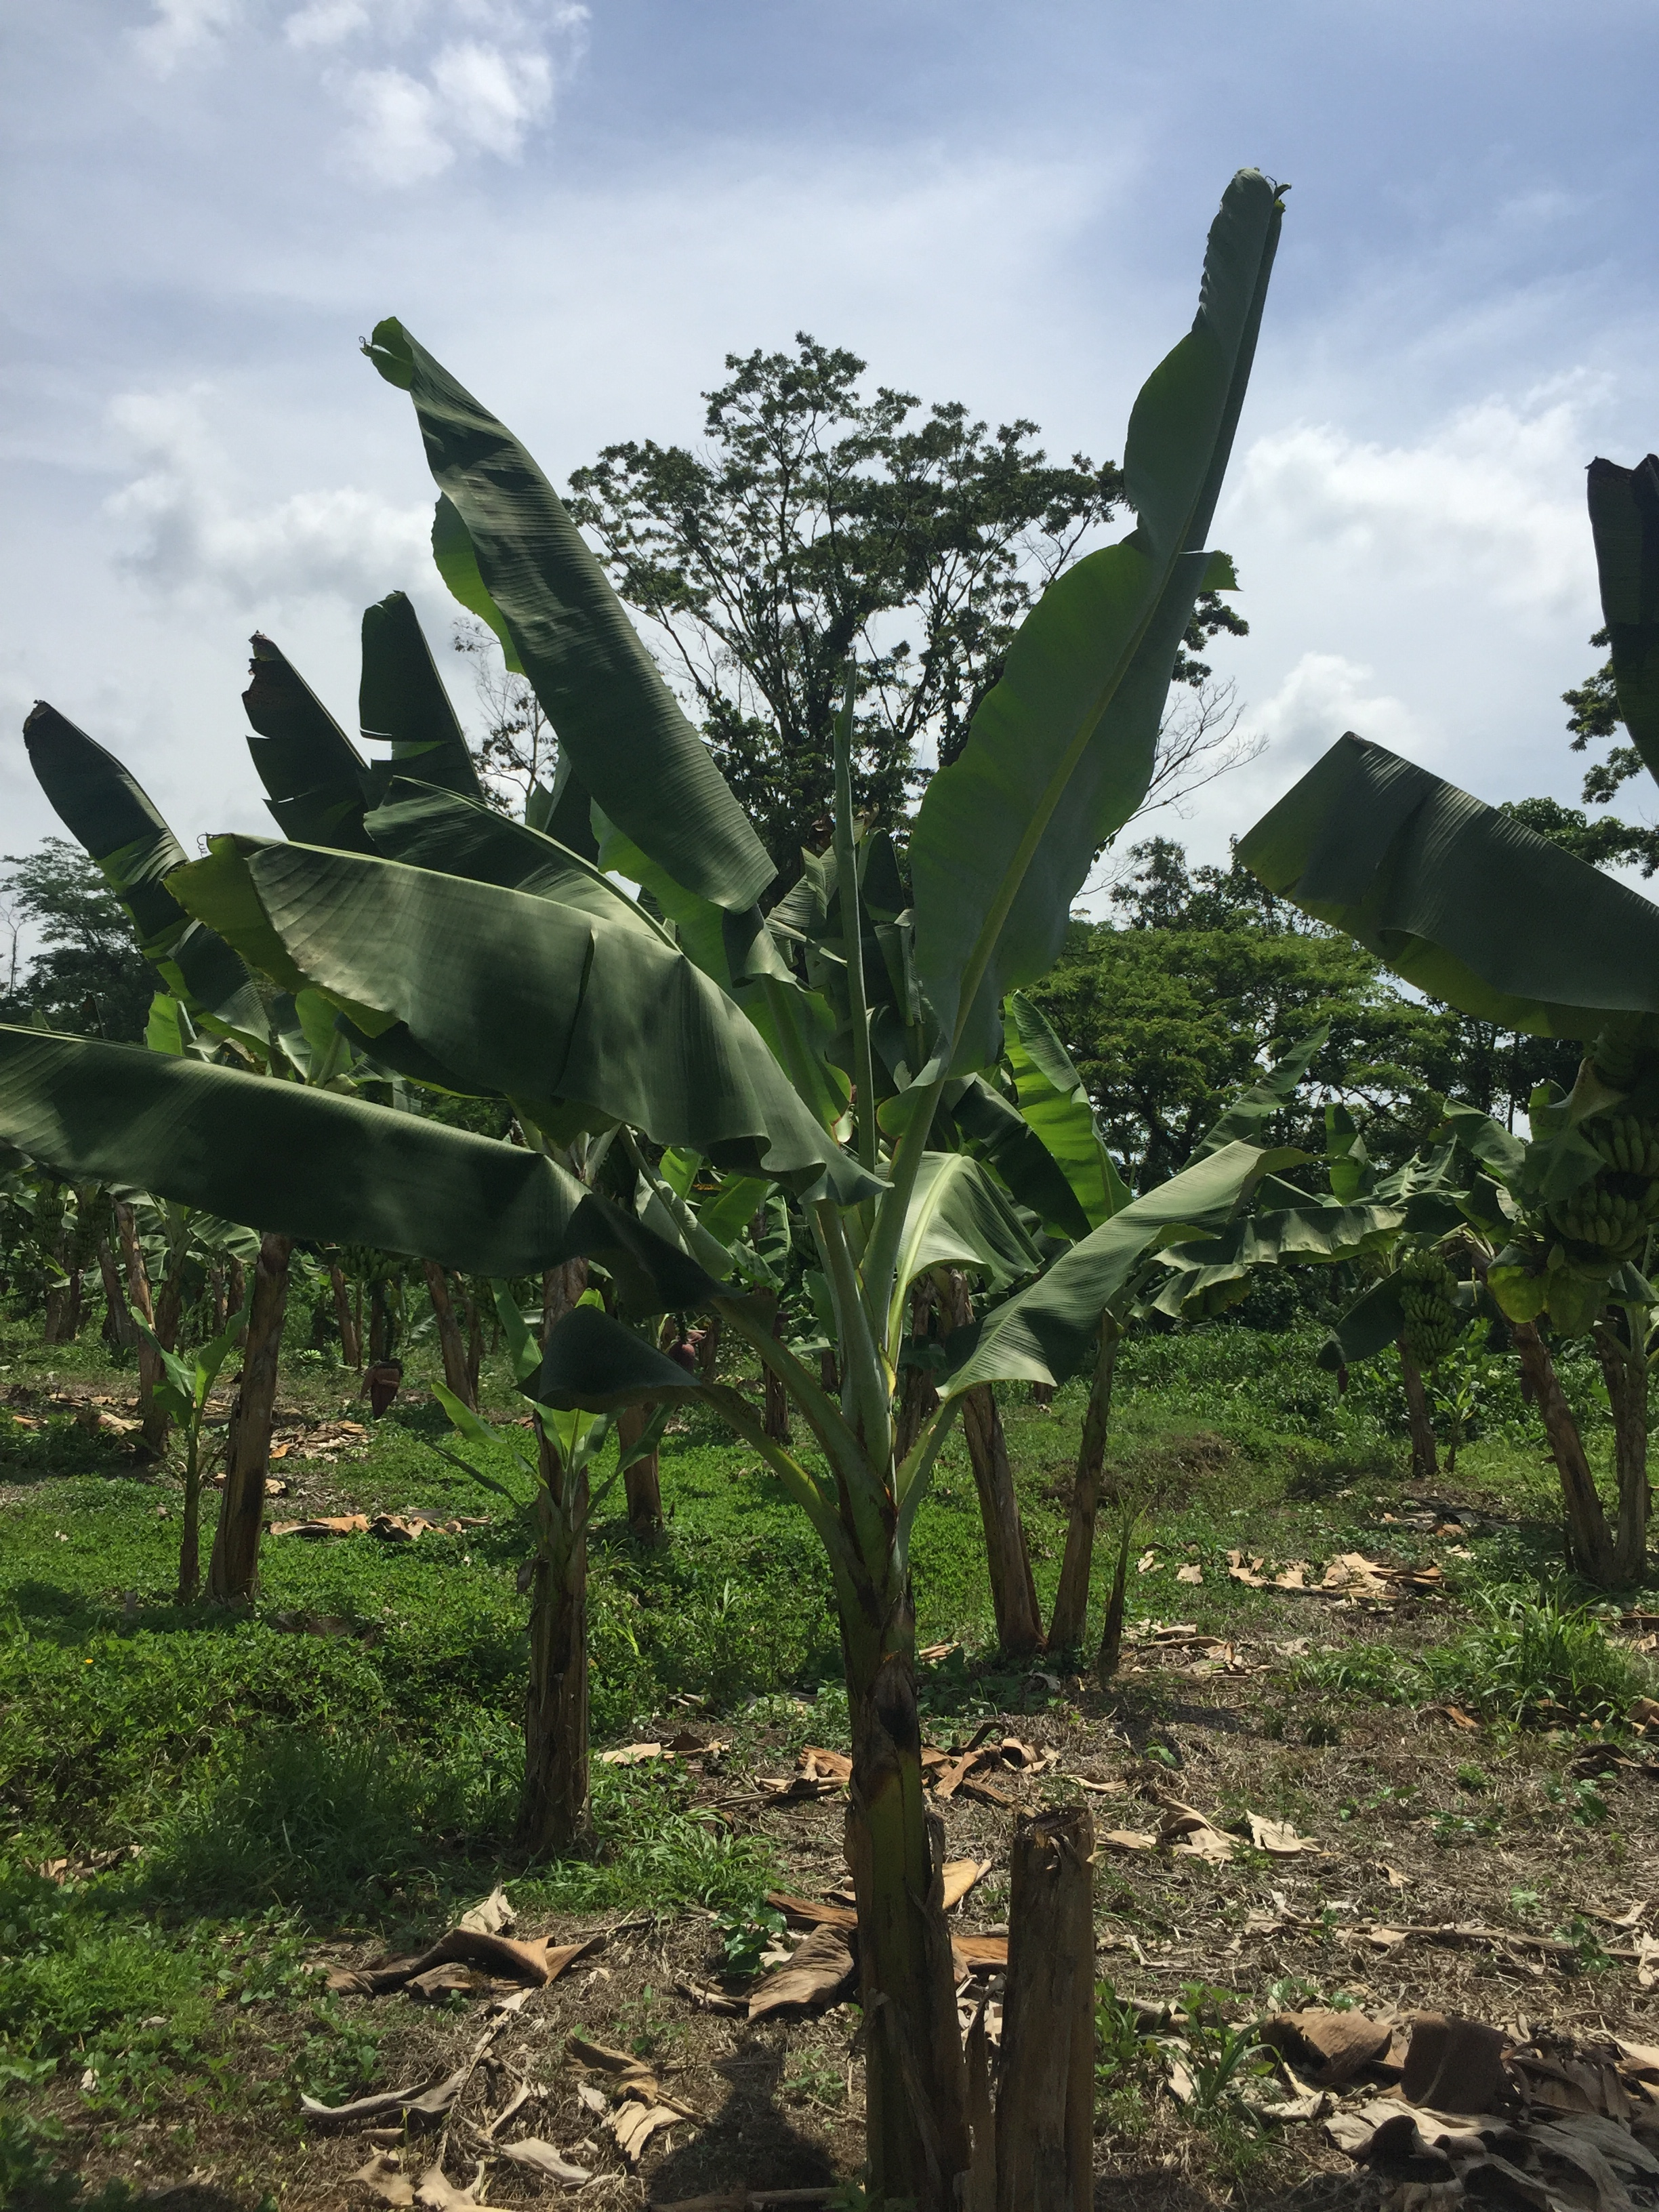candleleafs: (831, 650, 877, 1216)
